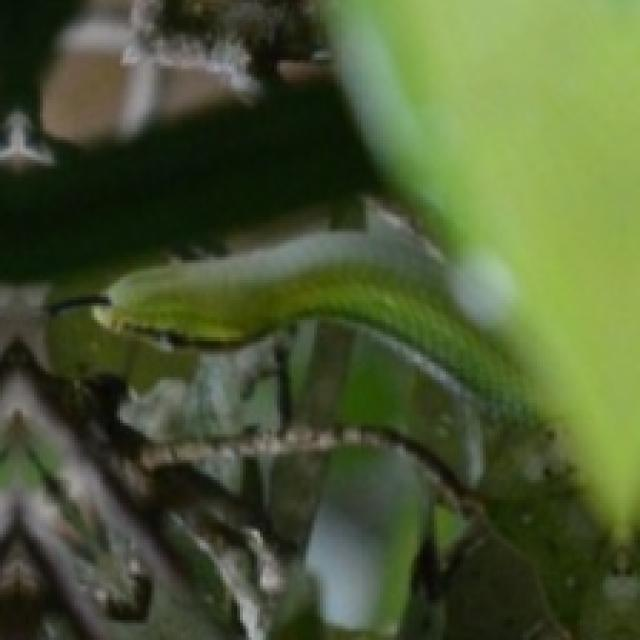red-tailed green ratsnake: (79, 224, 528, 419)
